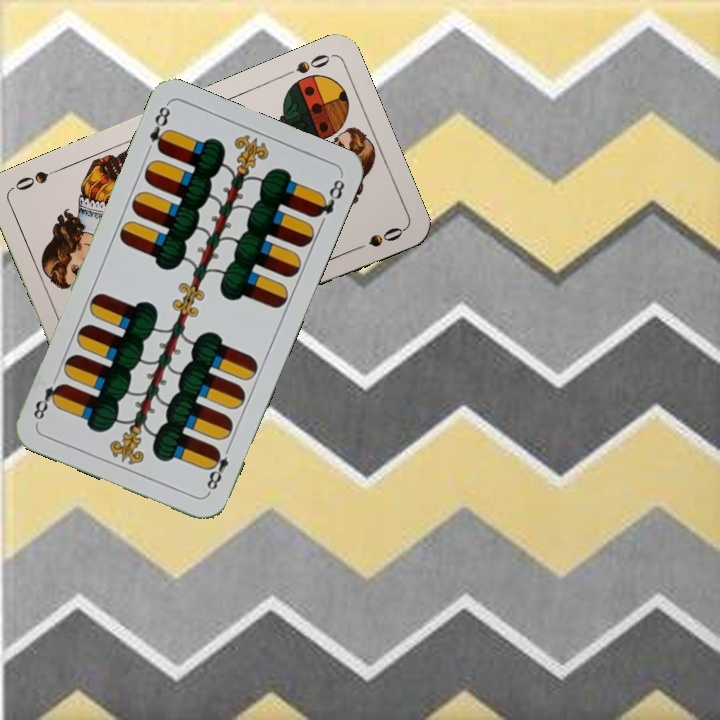E8: (202, 441, 234, 497), (145, 101, 173, 155)
SO: (278, 50, 333, 81)
